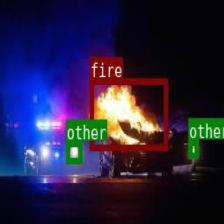fire: (90, 78, 166, 149)
